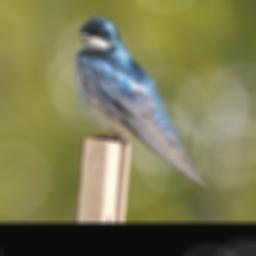Swallow: (72, 12, 209, 193)
